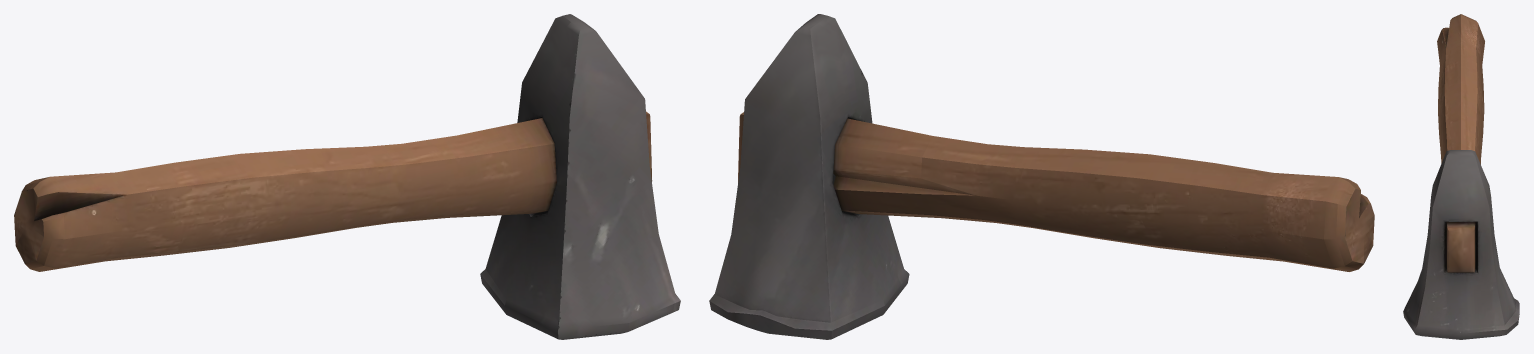
3 renders of one model, left to right at view 1: azimuth 30°, elevation 25°; view 2: azimuth 150°, elevation 25°; view 3: azimuth 270°, elevation 25°, orthographic. The views are drawn at different scales.
Visible parts, largest first — view 1: body0_model0_lod0_mesh0; view 2: body0_model0_lod0_mesh0; view 3: body0_model0_lod0_mesh0.
Boxes of the visible parts, left/top/right/bottom form: body0_model0_lod0_mesh0: left=14, top=14, right=680, bottom=339; body0_model0_lod0_mesh0: left=709, top=14, right=1374, bottom=339; body0_model0_lod0_mesh0: left=1403, top=14, right=1519, bottom=339.
Size of the model in its own units: 22.99 by 9.88 by 6.19.
1 material, 1 textured.
